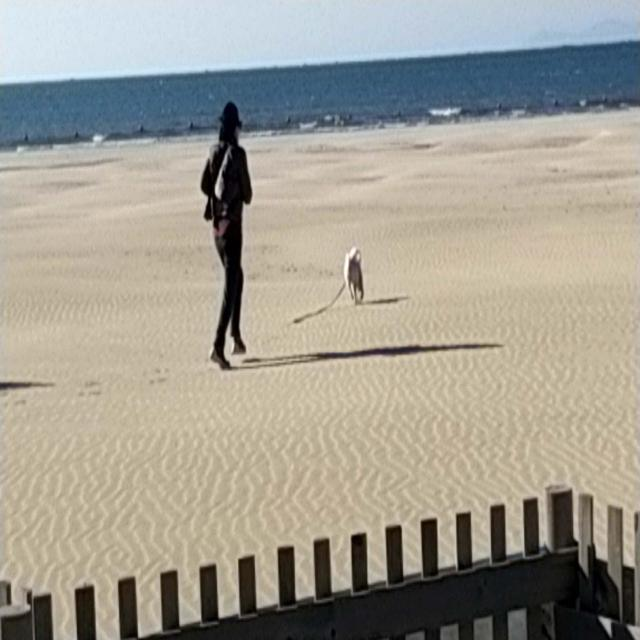Unleashed_Dog: (229, 236, 365, 304)
